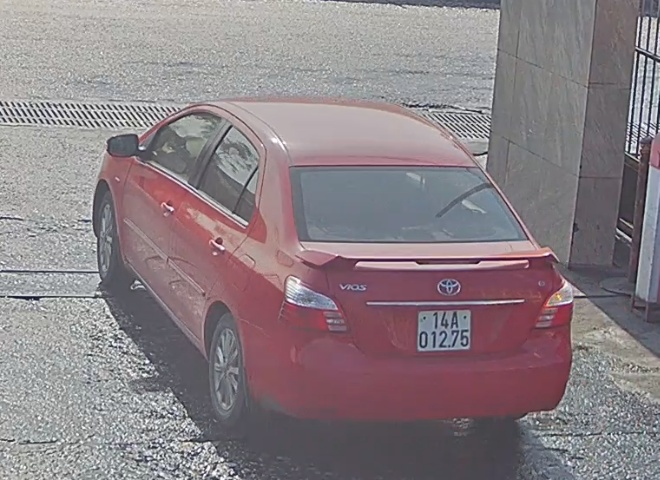vehicle plate: (412, 307, 476, 352)
